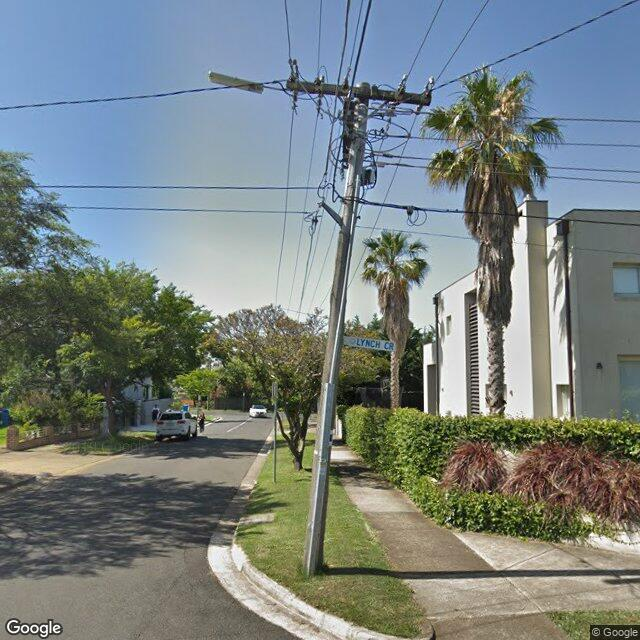crossarm: (286, 80, 431, 106), (343, 97, 355, 170)
streetlight: (209, 70, 286, 94)
timber-pole: (303, 82, 370, 576)
